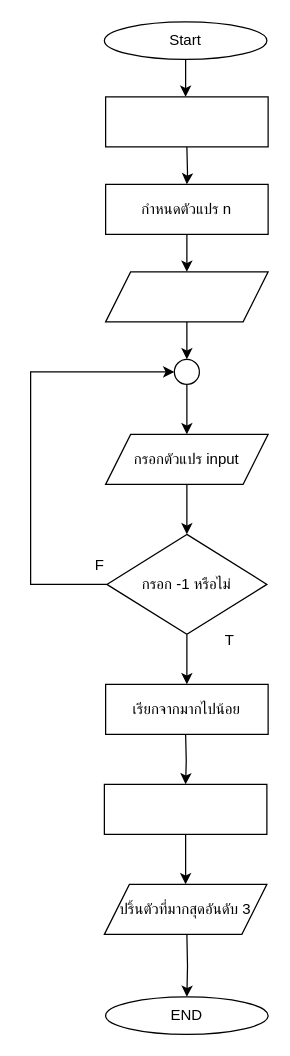
The diagram is 290 pixels wide and 1056 high, and some of its shapes have lost their labels. Each missing label, with the centre of its shape:
"กรอกจำนวนรอบ (n)" belongs at pixel 186 296.
"กำหนดตัวแปร arr input1" belongs at pixel 186 121.
"เอาค่าตัวที่ 3 มา" belongs at pixel 185 808.
